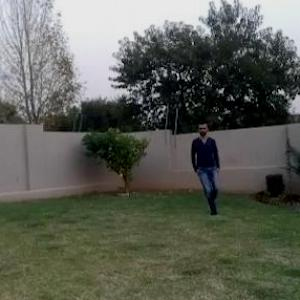follow: (191, 118, 223, 220)
